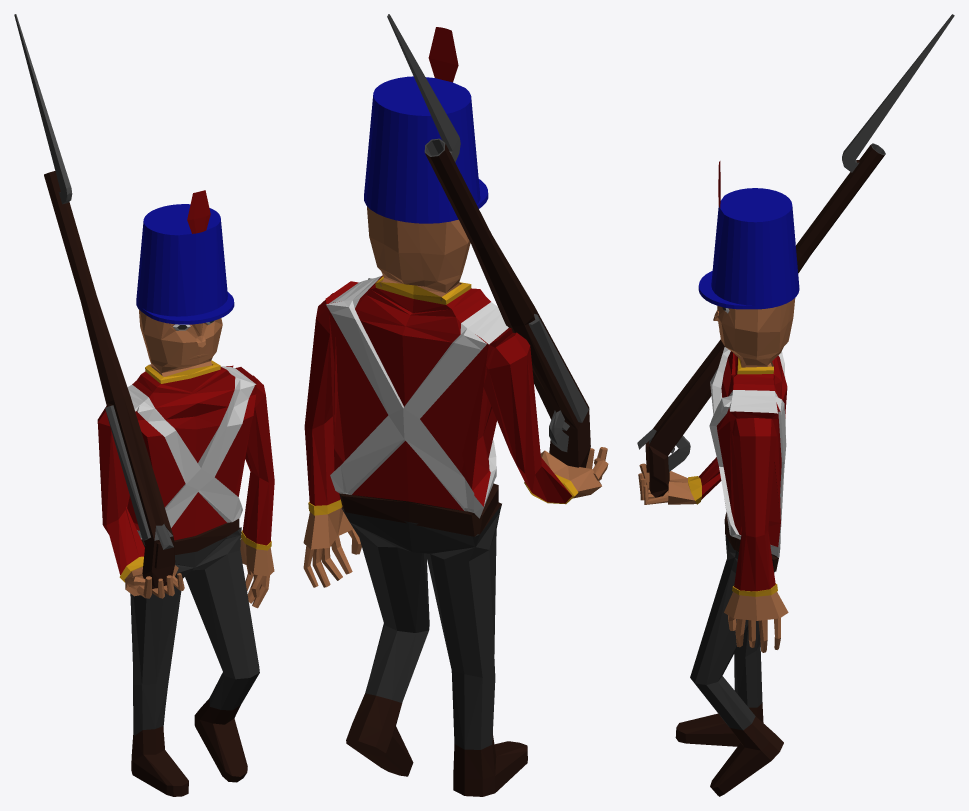
File: Infantry_000071.obj
3 renders of one model, left to right at view 1: azimuth 30°, elevation 25°; view 2: azimuth 150°, elevation 25°; view 3: azimuth 270°, elevation 25°, orthographic. The views are drawn at different scales.
Parts seen in each view (by area): view 1: {Man}_Circle, {Mesket}_Cube.001; view 2: {Man}_Circle, {Mesket}_Cube.001; view 3: {Man}_Circle, {Mesket}_Cube.001.
Part boxes in pixels (x1=…): {Man}_Circle: x1=97, y1=190, x2=274, y2=796; {Mesket}_Cube.001: x1=14, y1=14, x2=175, y2=589; {Man}_Circle: x1=303, y1=27, x2=608, y2=796; {Mesket}_Cube.001: x1=387, y1=14, x2=590, y2=467; {Man}_Circle: x1=638, y1=161, x2=799, y2=796; {Mesket}_Cube.001: x1=637, y1=14, x2=954, y2=497.
Bounding box in the file's own units: 5.63 × 20.06 × 7.93.
